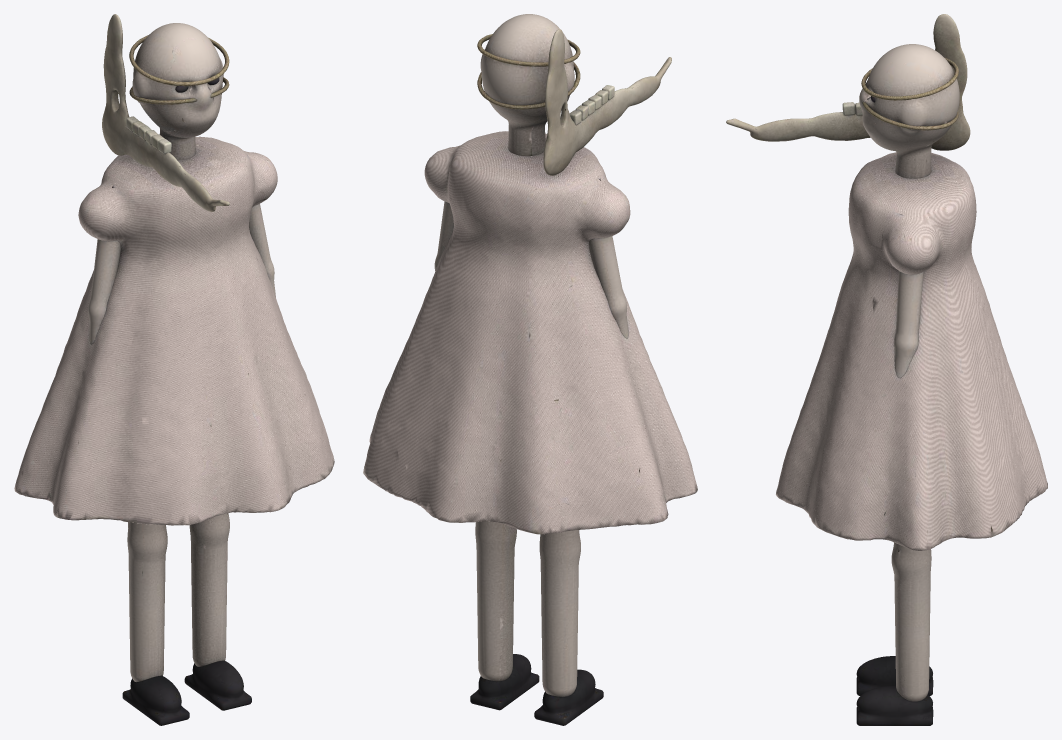
File: jawbone_girl.glb
3 views of the same model, side by side, from view 1: azimuth 30°, elevation 25°; view 2: azimuth 150°, elevation 25°; view 3: azimuth 270°, elevation 25° (orthographic). The views are drawn at different scales.
Visible parts, largest first — view 1: Girl_Dress, Girl_Skin, Cow_Mandible, Girl_Shoes, Jaw_Twine, Cow_Molars; view 2: Girl_Dress, Girl_Skin, Cow_Mandible, Girl_Shoes, Jaw_Twine, Cow_Molars; view 3: Girl_Dress, Girl_Skin, Cow_Mandible, Girl_Shoes, Jaw_Twine.
Part boxes in pixels (x1,y1,x2,y2): Girl_Dress: (14,136,334,525); Girl_Skin: (88,23,275,682); Cow_Mandible: (102,14,229,211); Girl_Shoes: (122,660,251,725); Jaw_Twine: (129,35,229,104); Cow_Molars: (126,116,171,154); Girl_Dress: (363,131,697,534); Girl_Skin: (434,14,628,696); Cow_Mandible: (543,29,671,175); Girl_Shoes: (470,654,603,725); Jaw_Twine: (477,34,580,109); Cow_Molars: (569,85,614,125); Girl_Dress: (776,152,1047,550); Girl_Skin: (859,44,959,701); Cow_Mandible: (726,14,970,150); Girl_Shoes: (856,656,933,725); Jaw_Twine: (861,57,958,130).
Bounding box in the file's own units: 0.5564 × 1.23 × 0.5337.
Materials: 1 (1 with a texture image).
